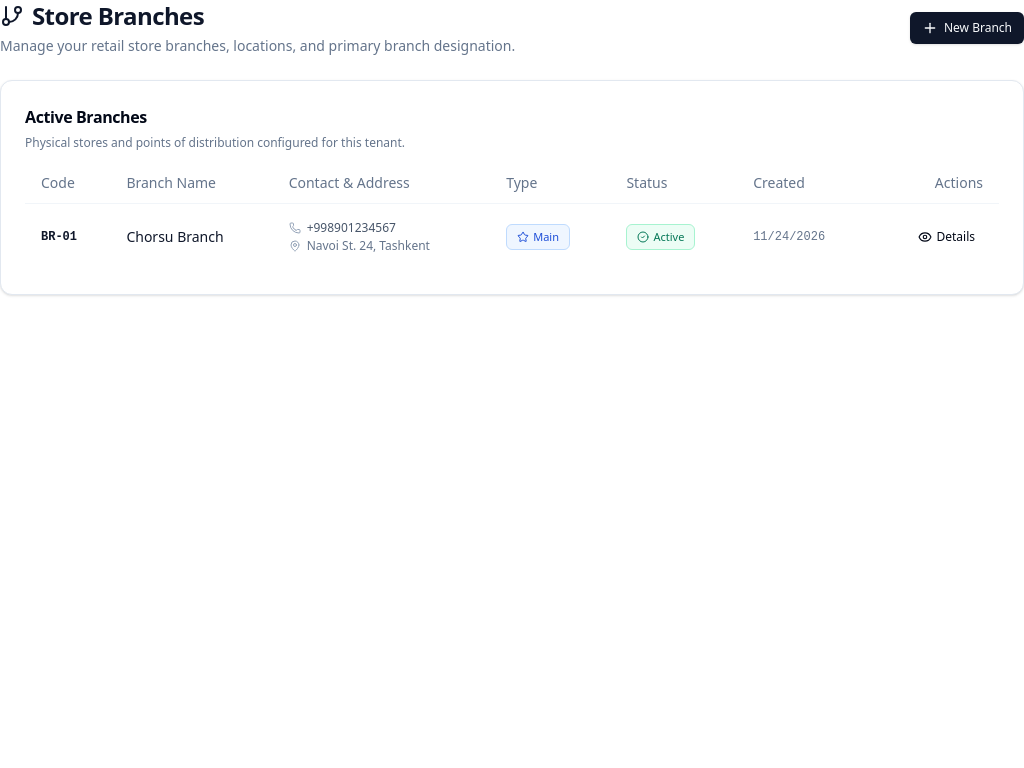
BranchesPage › renders branches and opens live branch details dialog via useBranch
Expected: the text "Chorsu Branch" is shown, [110, 203, 273, 270]
Expected: the text "BR-01" is shown, [25, 203, 110, 270]
Click the button with aria-label "View branch Chorsu Branch" at [947, 236], box [910, 222, 983, 250]
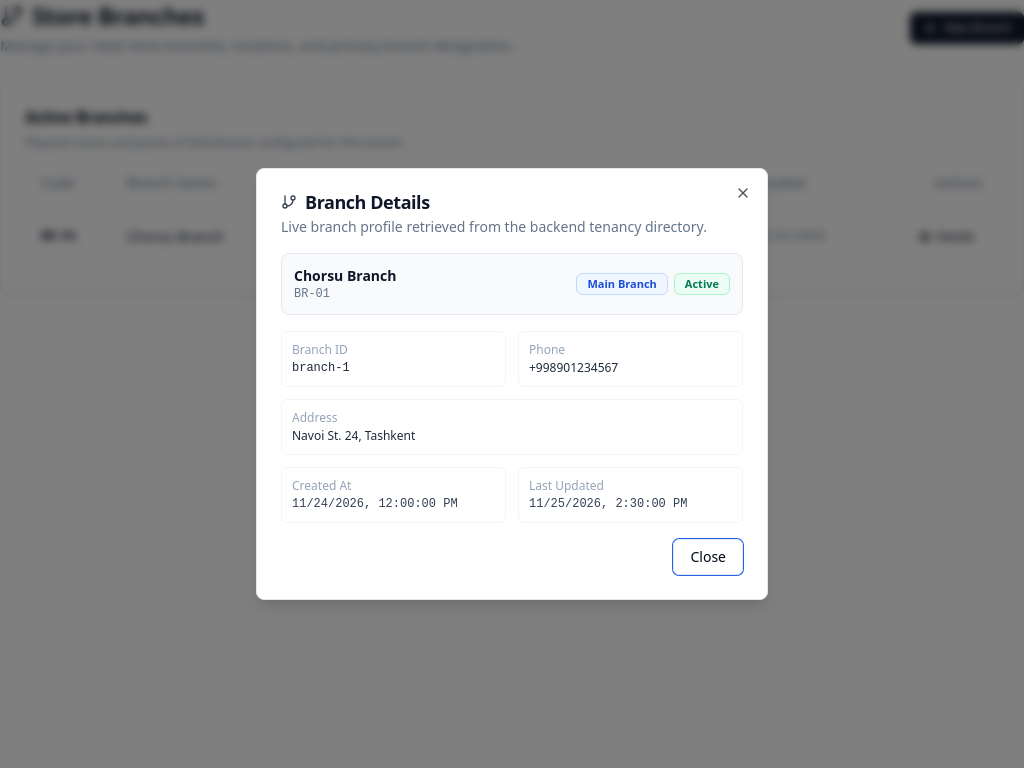
Expected: the text "Branch Details" is shown, [305, 193, 430, 211]
Expected: the text "branch-1" is shown, [292, 361, 350, 375]
